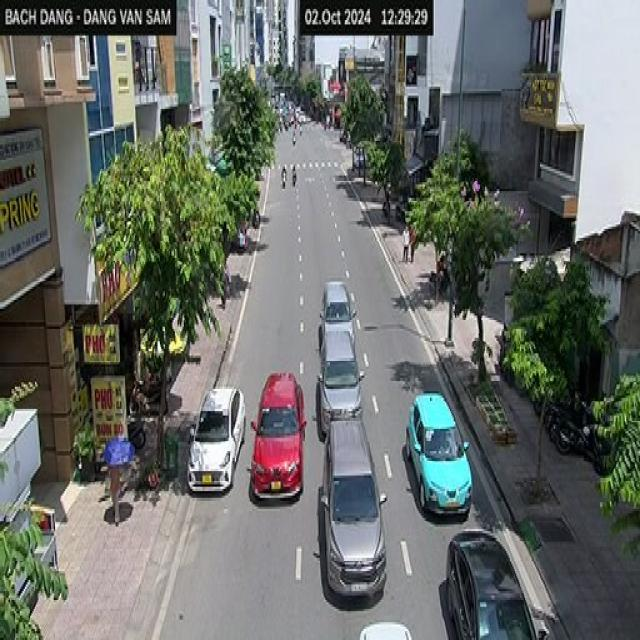car: (324, 418, 391, 604), (441, 536, 544, 640), (406, 393, 474, 517), (253, 366, 306, 504), (186, 387, 245, 500), (321, 331, 364, 432), (321, 281, 359, 351), (358, 622, 414, 640)
person: (104, 452, 124, 536), (400, 222, 410, 264), (409, 220, 417, 264)
